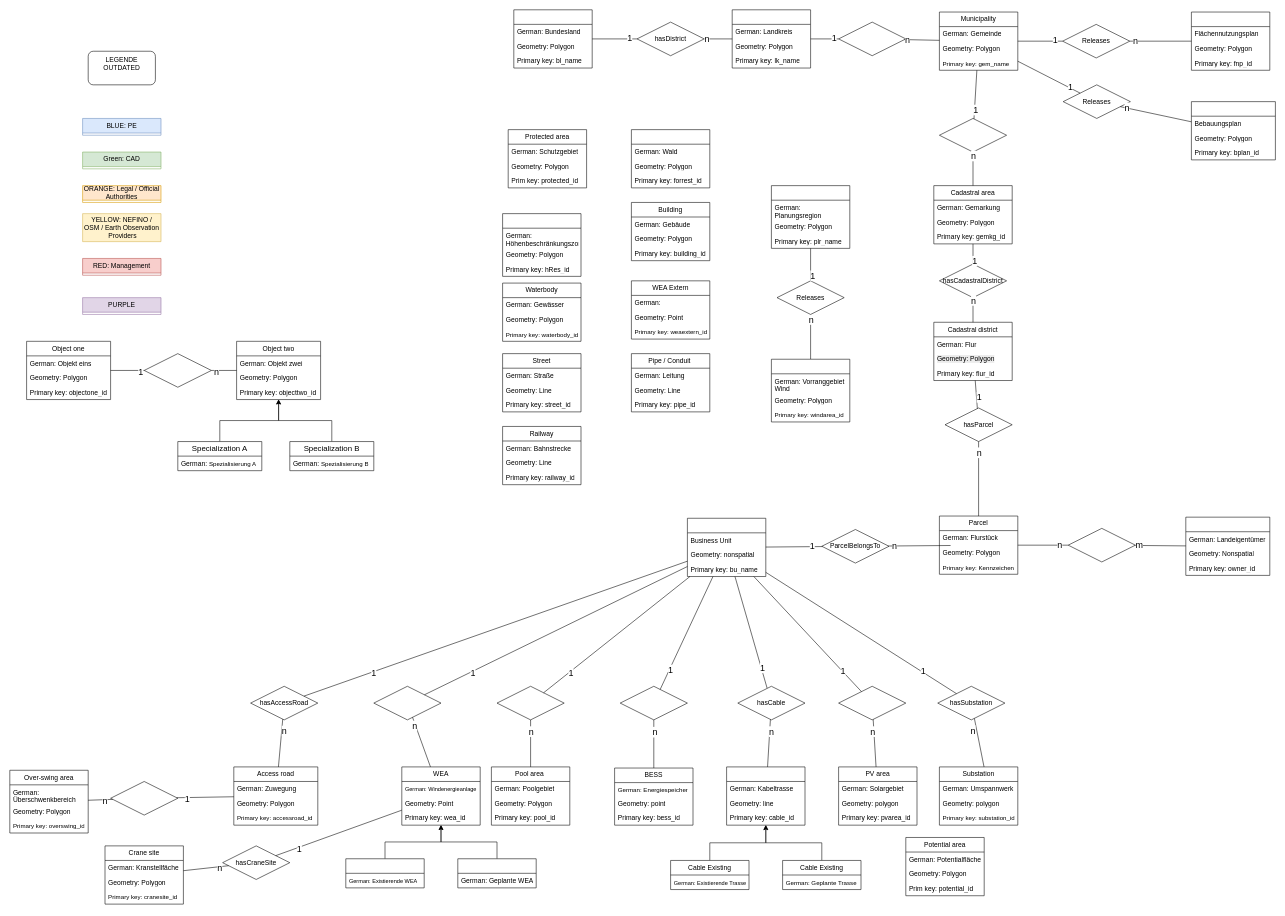
This 1285x916 diagram has some shape labels left out. The shapes that lost their labels are listed below. From the top down, each one's box as (x1, y1, x2, y2) in pixels, then its label:
(513, 9, 592, 68): State
(732, 9, 811, 68): District
(838, 22, 906, 56): hasMunicipality
(1191, 11, 1270, 70): Land use (FNP) area
(939, 118, 1007, 152): hasCadastralArea
(1191, 101, 1275, 160): Development plan
(631, 129, 710, 188): Forest
(771, 185, 850, 248): Planning region
(502, 213, 581, 276): Heightrestriction area
(144, 353, 211, 387): Relation-Name
(771, 359, 850, 422): Priority area wind
(687, 518, 766, 577): BU
(1068, 528, 1135, 562): Owns
(1185, 517, 1270, 575): Land owner
(373, 686, 441, 720): hasWEA
(496, 686, 564, 720): hasPool
(620, 686, 687, 720): hasBess
(838, 686, 906, 720): hasPV
(110, 781, 178, 815): hasOverSwing
(726, 766, 805, 825): Cable route
(345, 858, 424, 888): WEA Existing
(457, 858, 536, 888): WEA Planned
